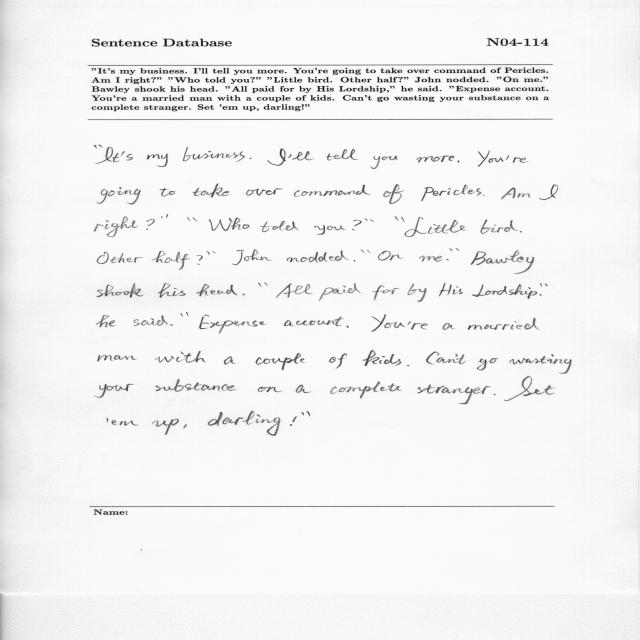word: (208, 411, 281, 436), (471, 250, 535, 274), (417, 385, 490, 405), (199, 315, 266, 334), (504, 376, 554, 401), (510, 354, 572, 374), (330, 382, 402, 399), (405, 217, 466, 237), (472, 283, 542, 299), (155, 379, 236, 392), (421, 185, 482, 202), (183, 147, 245, 162), (294, 185, 370, 197), (95, 217, 138, 238), (255, 353, 306, 370), (467, 318, 539, 330), (287, 250, 349, 263), (97, 187, 141, 205), (319, 283, 361, 301), (152, 251, 190, 270), (97, 283, 144, 298), (232, 249, 272, 265), (371, 314, 406, 332), (363, 350, 402, 366), (155, 351, 206, 363), (284, 317, 344, 327), (209, 217, 250, 231), (480, 219, 518, 234), (97, 252, 143, 264), (276, 284, 312, 299), (95, 384, 133, 398), (426, 352, 465, 365), (193, 184, 229, 198), (196, 284, 237, 296), (95, 145, 119, 164), (478, 150, 504, 167), (152, 419, 179, 435), (383, 184, 404, 204), (158, 283, 186, 298), (260, 221, 298, 232), (373, 286, 400, 301), (134, 315, 169, 326), (370, 156, 398, 169), (501, 188, 531, 200), (326, 149, 358, 160), (408, 284, 427, 302), (268, 148, 286, 166), (314, 225, 346, 235), (439, 283, 463, 296), (246, 188, 283, 196), (539, 185, 558, 200), (147, 154, 168, 167), (329, 354, 347, 369), (417, 156, 455, 163), (107, 418, 139, 426), (477, 358, 498, 370), (288, 151, 313, 161), (378, 251, 403, 261), (96, 315, 116, 327), (98, 355, 137, 361), (197, 251, 210, 265), (352, 219, 367, 231), (506, 155, 528, 163), (419, 255, 442, 262), (408, 322, 428, 330), (258, 387, 282, 393), (160, 188, 175, 197), (296, 385, 311, 393), (121, 152, 133, 161), (146, 219, 155, 230), (224, 356, 235, 365), (443, 323, 455, 330), (395, 216, 405, 223), (290, 416, 297, 426), (187, 217, 198, 222), (301, 411, 310, 416), (258, 283, 268, 287), (180, 313, 189, 317), (361, 250, 371, 253), (449, 249, 459, 252), (161, 215, 168, 219), (183, 424, 187, 429), (94, 145, 97, 149), (370, 219, 374, 222), (213, 251, 216, 254), (545, 284, 548, 287), (242, 294, 245, 296), (170, 324, 173, 326), (346, 326, 349, 328), (458, 161, 460, 163), (354, 260, 356, 262), (494, 394, 496, 396), (249, 158, 252, 159), (446, 259, 449, 260), (407, 365, 410, 366), (483, 195, 485, 196), (520, 231, 522, 232)
